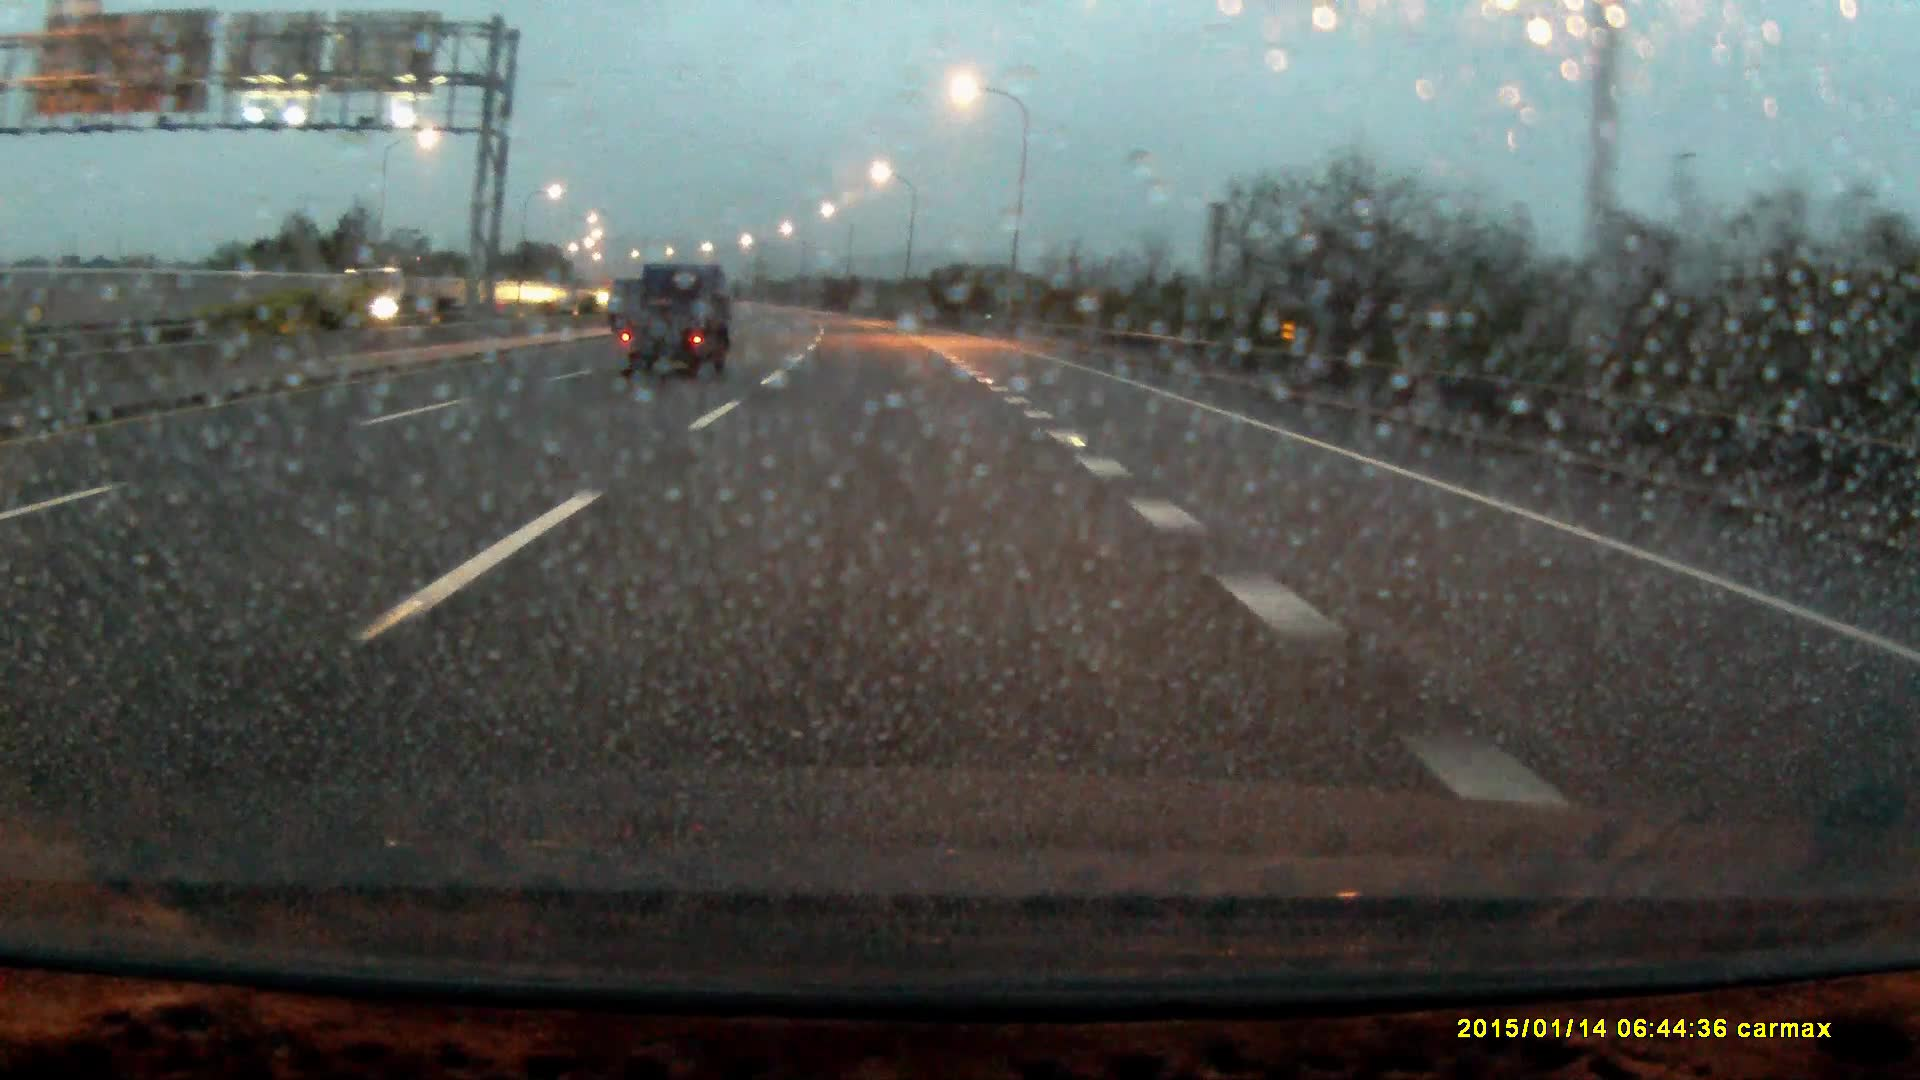vehicle: (617, 261, 735, 382), (335, 262, 458, 320)
